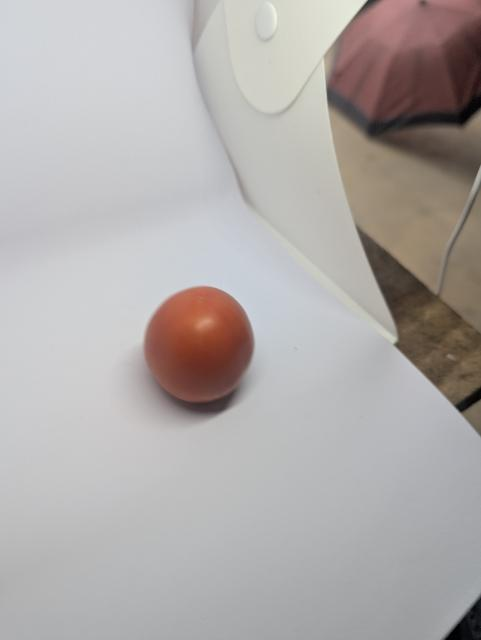red: (138, 278, 263, 422)
